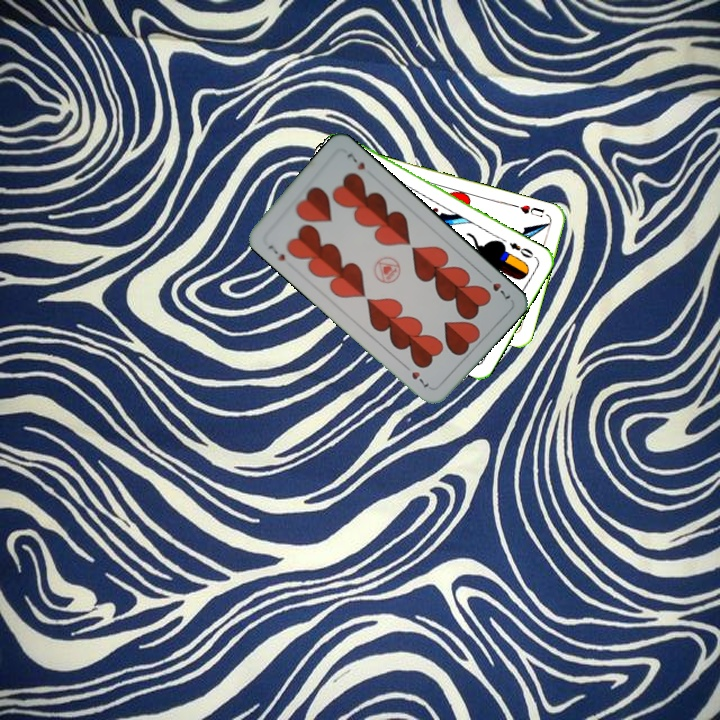EO: (505, 238, 539, 261)
H7: (480, 272, 513, 302), (264, 241, 288, 264)
HU: (511, 201, 547, 220)
